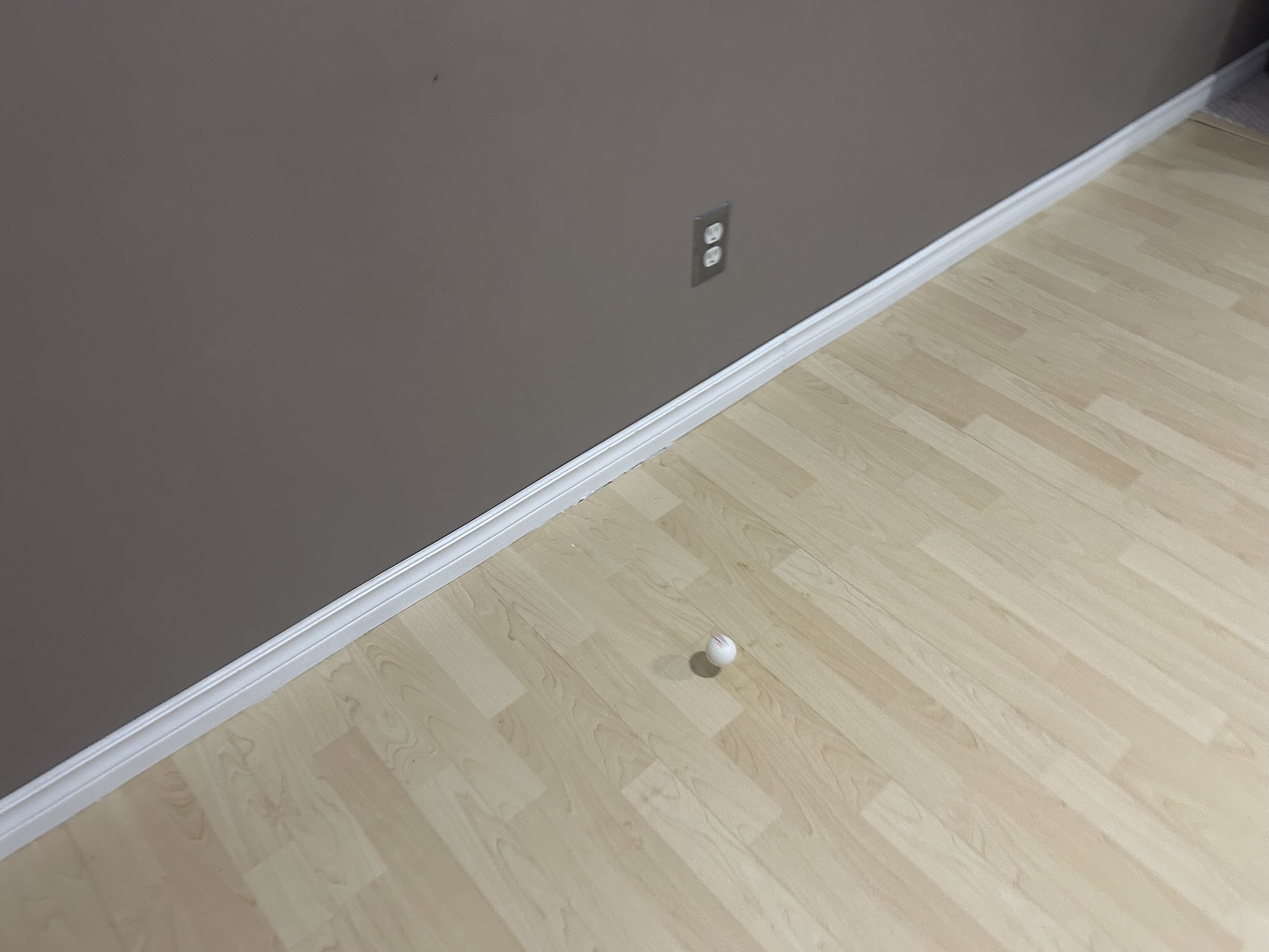Ball: (705, 636, 743, 675)
